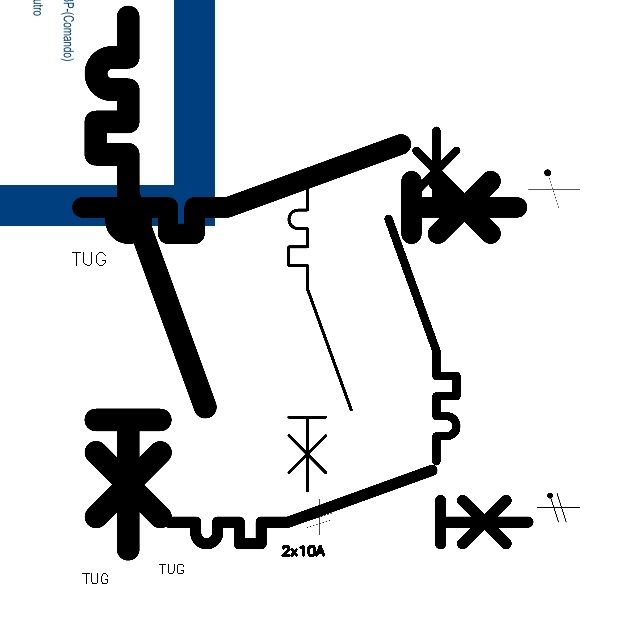interruptor_termomagnetico: (82, 3, 219, 563), (71, 133, 528, 245), (159, 461, 537, 553), (380, 122, 465, 470), (281, 179, 359, 498)
